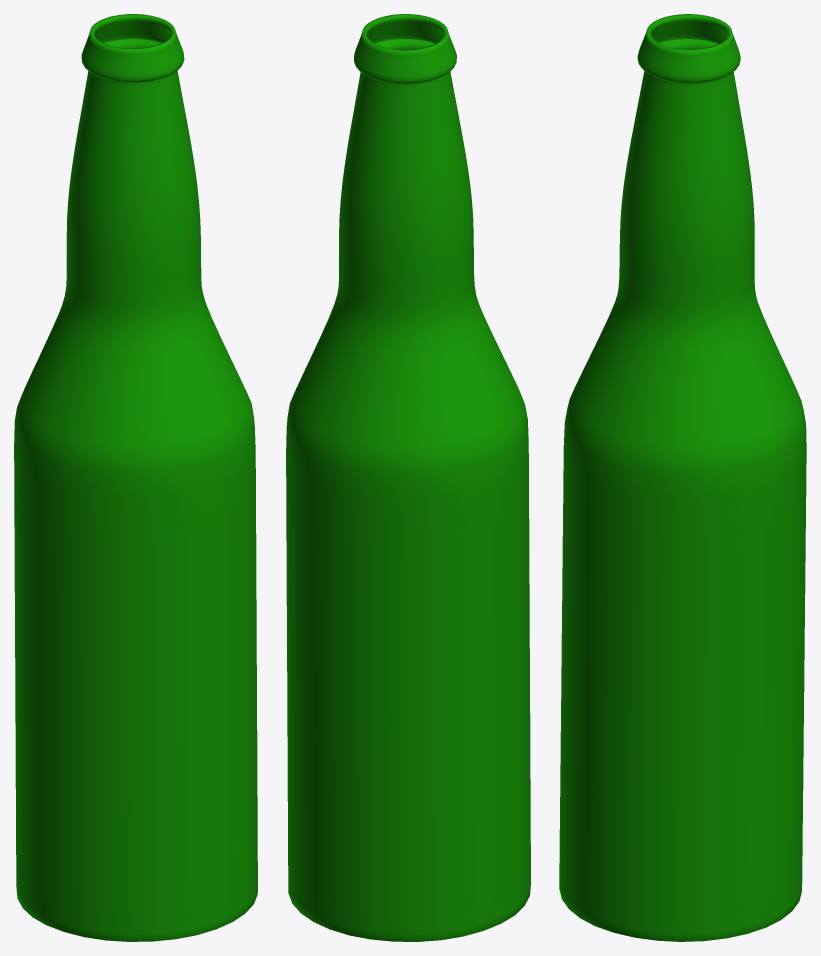
3 renders of one model, left to right at view 1: azimuth 30°, elevation 25°; view 2: azimuth 150°, elevation 25°; view 3: azimuth 270°, elevation 25°, orthographic.
Parts seen in each view (by area): view 1: 13221_16oz_beer_bottle_v2; view 2: 13221_16oz_beer_bottle_v2; view 3: 13221_16oz_beer_bottle_v2.
Part boxes in pixels (left/top/right/bottom): 13221_16oz_beer_bottle_v2: left=14, top=14, right=257, bottom=941; 13221_16oz_beer_bottle_v2: left=286, top=14, right=530, bottom=941; 13221_16oz_beer_bottle_v2: left=559, top=14, right=806, bottom=941.
Bounding box in the file's own units: 644 × 2516 × 655.
